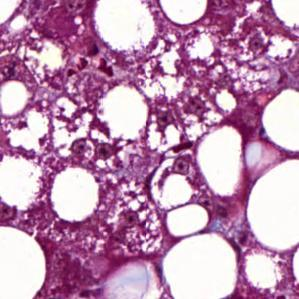steatosis: (2, 223, 49, 299), (260, 87, 299, 154), (159, 0, 208, 25)
